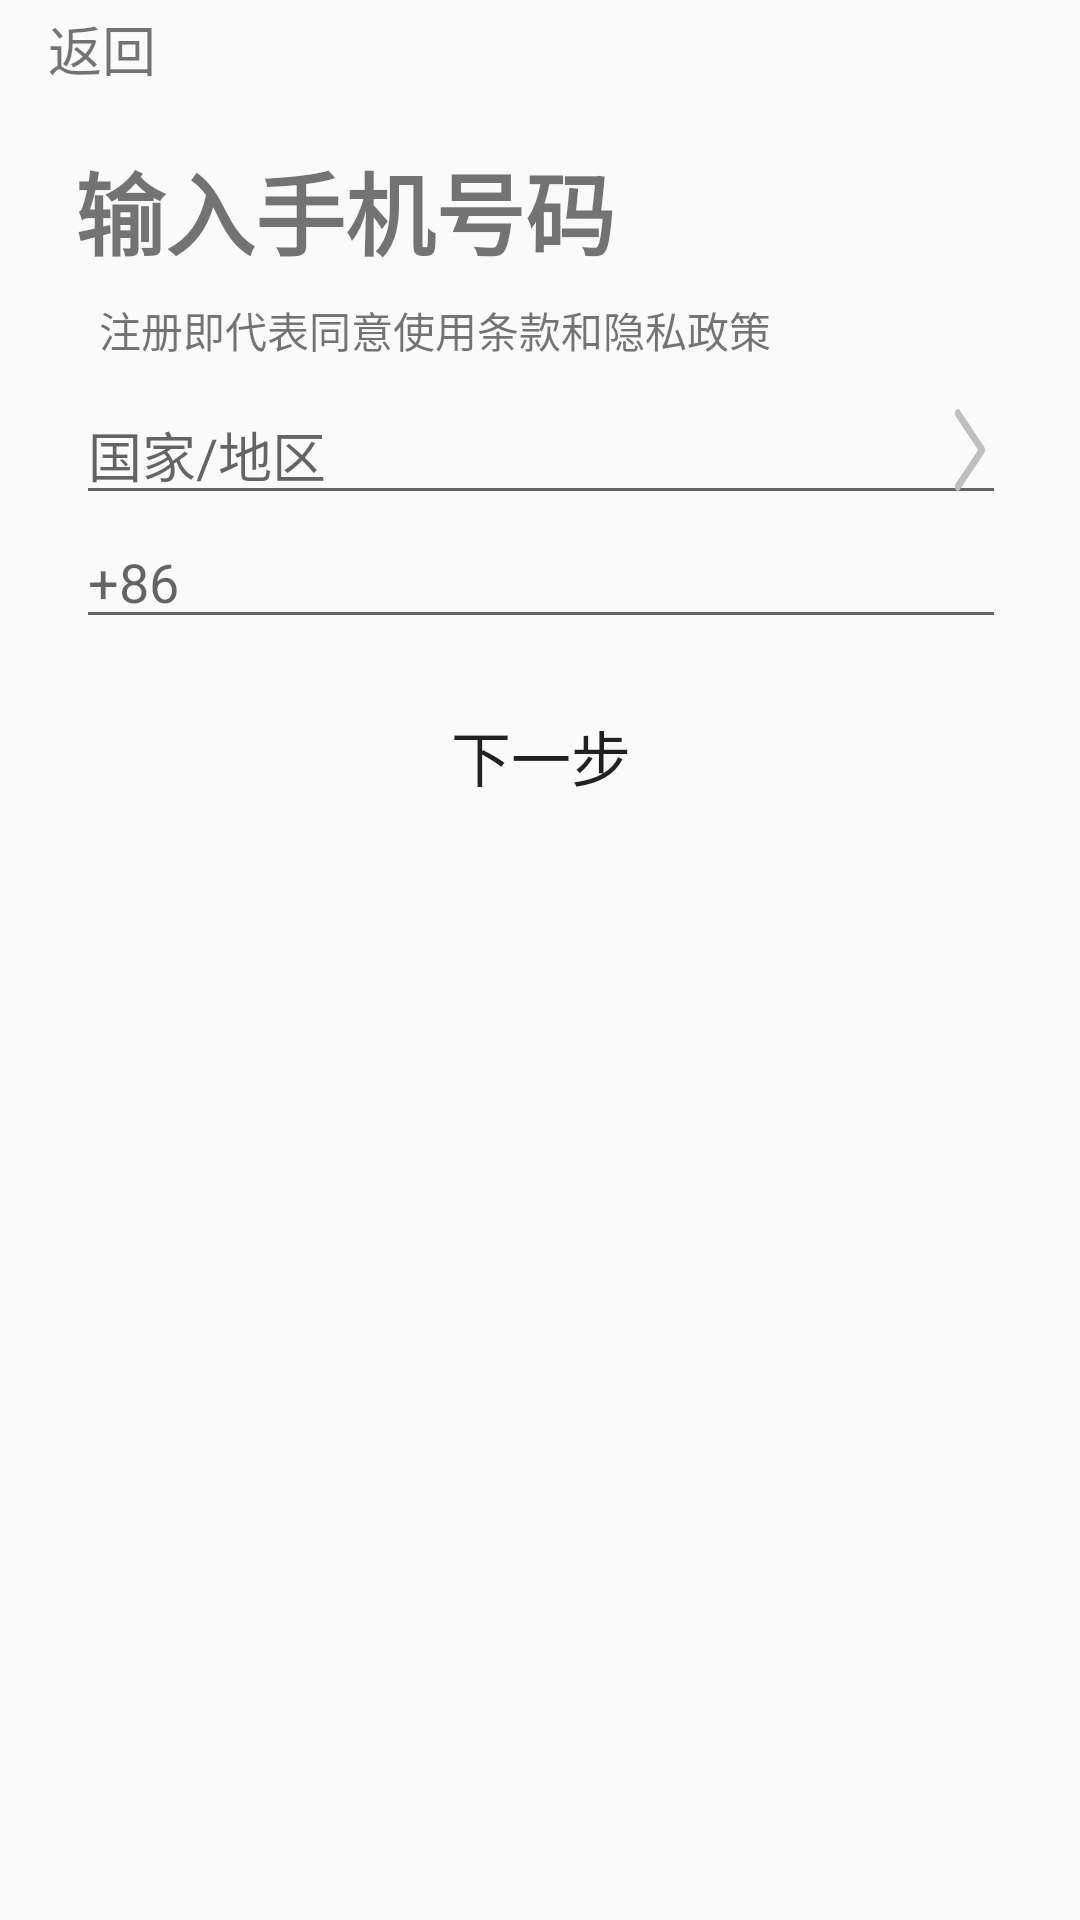

Where to tap for icons on this 1080 x 1920 app screen, as (x=x, y=y):
next: (x=964, y=450)
